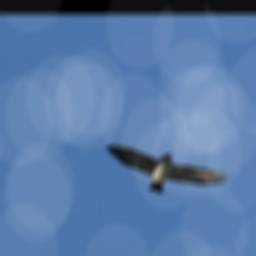Swallow: (105, 126, 232, 205)
